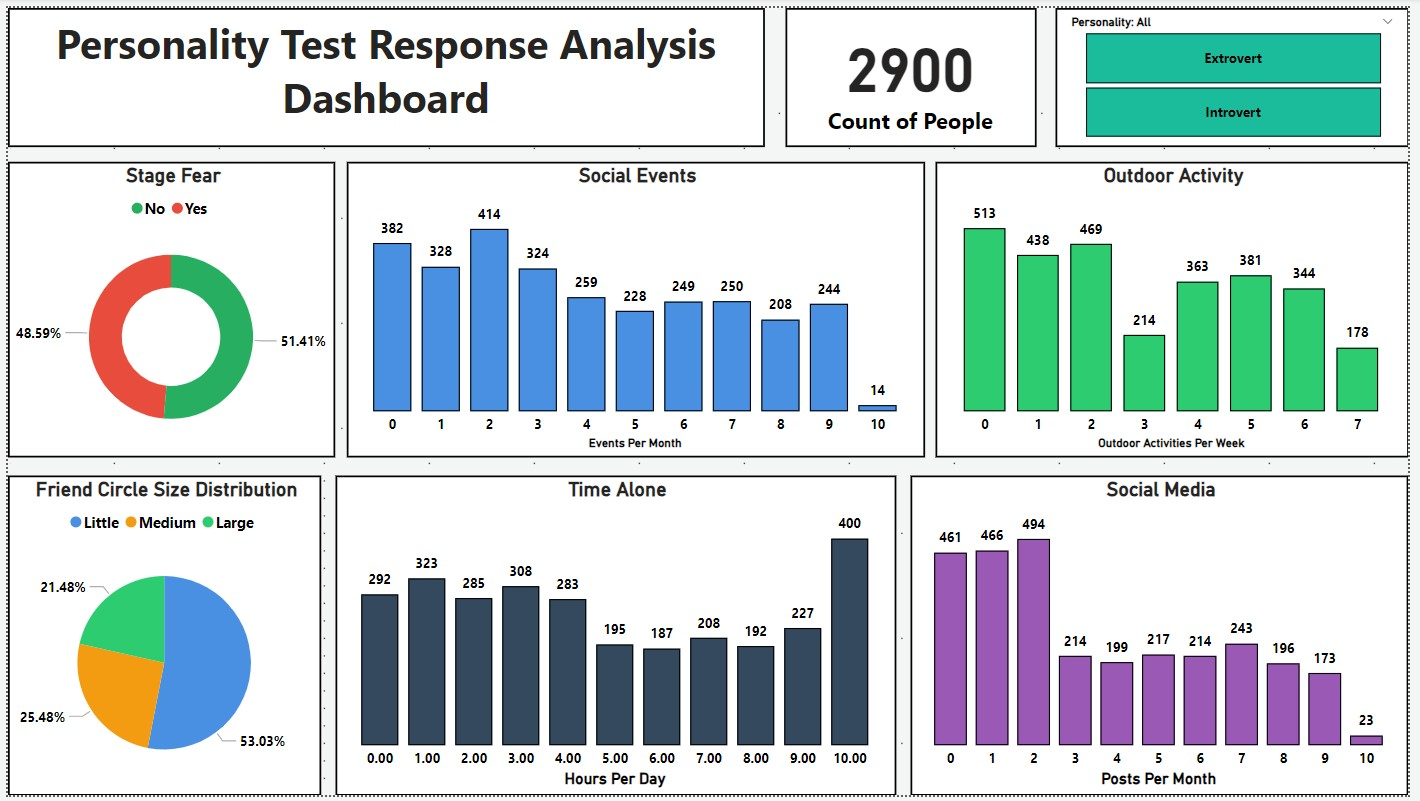

Layout of this report page (visuals, bound fields, positions):
{"tool":"powerbi","page":{"name":"Page 1","canvas":[1280,720],"ordinal":0},"visuals":[{"type":"card","fields":{"Values":["Count(Personality Dataset.Sr. No.)"]},"box":[710.6,0,229.4,127.2],"z":0},{"type":"pieChart","title":"Friend Circle Size Distribution","fields":{"Category":["Personality Dataset.Friend Circle"],"Y":["Count(Personality Dataset.Sr. No.)"]},"box":[0,427.6,286.8,293],"z":1000},{"type":"columnChart","title":"Time Alone","fields":{"Category":["Personality Dataset.Time_spent_Alone"],"Y":["Count(Personality Dataset.Sr. No.)"]},"box":[299.2,427,512.4,293],"z":2000},{"type":"columnChart","title":"Social Events","fields":{"Category":["Personality Dataset.Social_event_attendance"],"Y":["Count(Personality Dataset.Sr. No.)"]},"box":[309.2,140.9,528.6,270.5],"z":3000},{"type":"columnChart","title":"Social Media","fields":{"Category":["Personality Dataset.Post_frequency"],"Y":["Count(Personality Dataset.Sr. No.)"]},"box":[825.4,427.6,455.1,293],"z":4000},{"type":"donutChart","title":"Stage Fear","fields":{"Y":["Count(Personality Dataset.Sr. No.)"],"Category":["Personality Dataset.Stage_fear"]},"box":[0,140.9,299.2,270.5],"z":5000},{"type":"columnChart","title":"Outdoor Activity","fields":{"Category":["Personality Dataset.Going_outside"],"Y":["Count(Personality Dataset.Sr. No.)"]},"box":[847.8,140.9,432.6,270.5],"z":6000},{"type":"slicer","fields":{"Values":["Personality Dataset.Personality"]},"box":[957.5,0,322.9,127.2],"z":7000},{"type":"textbox","box":[0,0,691.9,127.2],"z":8000}]}

Visuals, with their boxes in screenshot pixels (x1, y1, x2, y2), scaled from the page's 1280x720 canvas onto the 1420x801 screenshot:
card - Count(Personality Dataset.Sr. No.): 788:0:1043:142
"Friend Circle Size Distribution" pieChart: 0:476:318:800
"Time Alone" columnChart: 332:475:900:800
"Social Events" columnChart: 343:157:929:458
"Social Media" columnChart: 916:476:1419:800
"Stage Fear" donutChart: 0:157:332:458
"Outdoor Activity" columnChart: 941:157:1419:458
slicer - Personality Dataset.Personality: 1062:0:1419:142
textbox: 0:0:768:142
